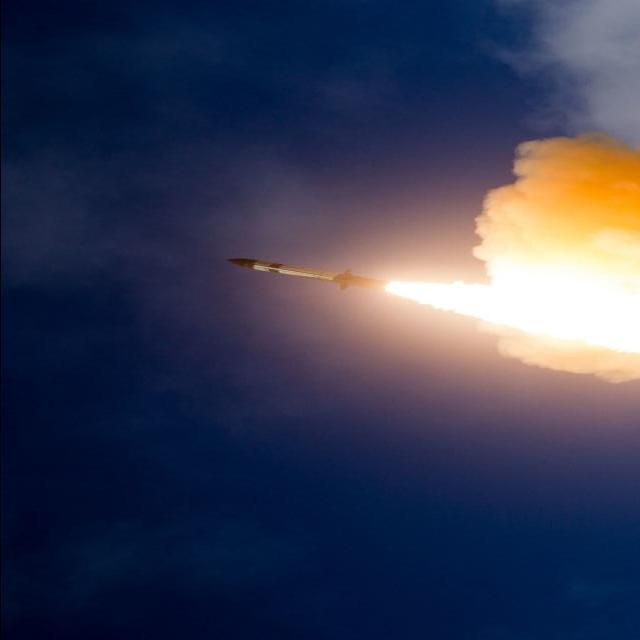missile: (209, 252, 393, 300)
